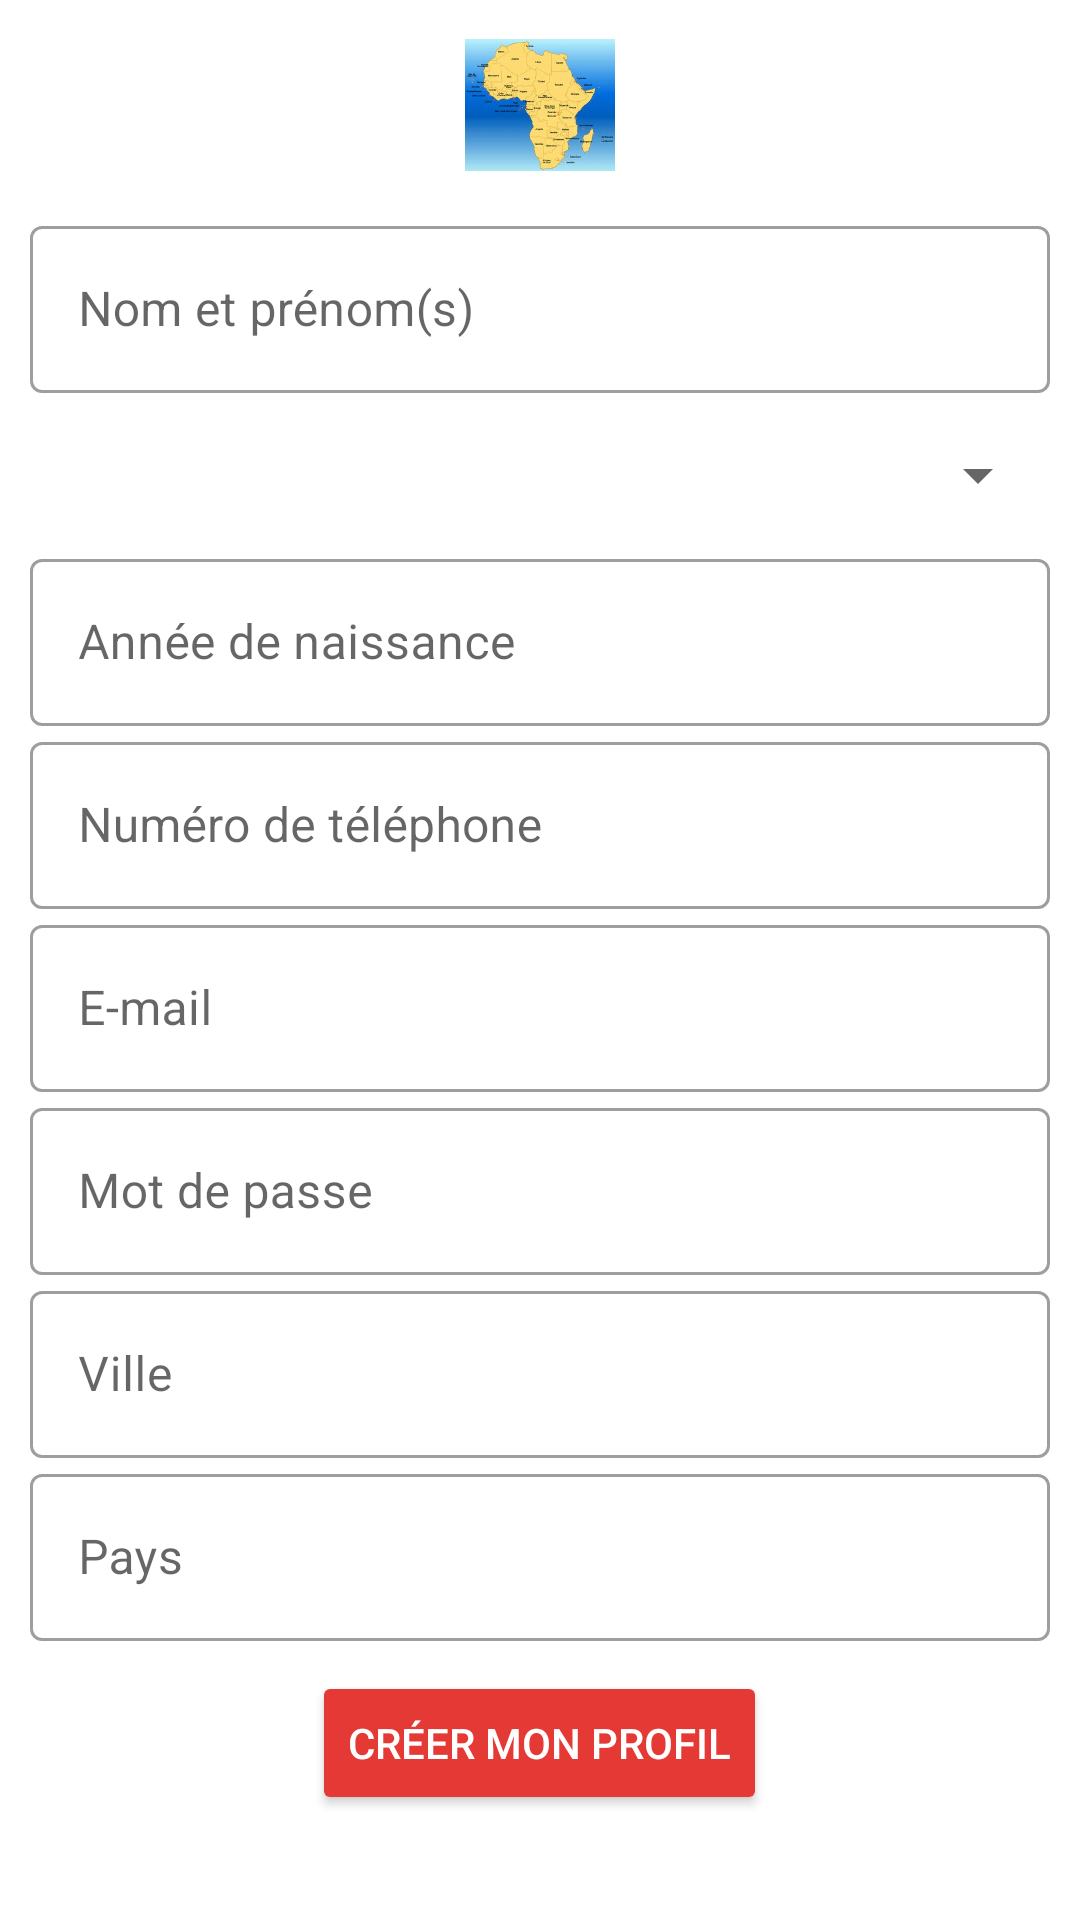

Point at icon controls on the screen. Image size 1080 x 1920, points as point (x, y).
carte: point (540, 105)
